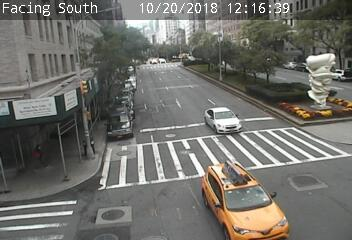car: (202, 162, 289, 240), (204, 107, 242, 133)
